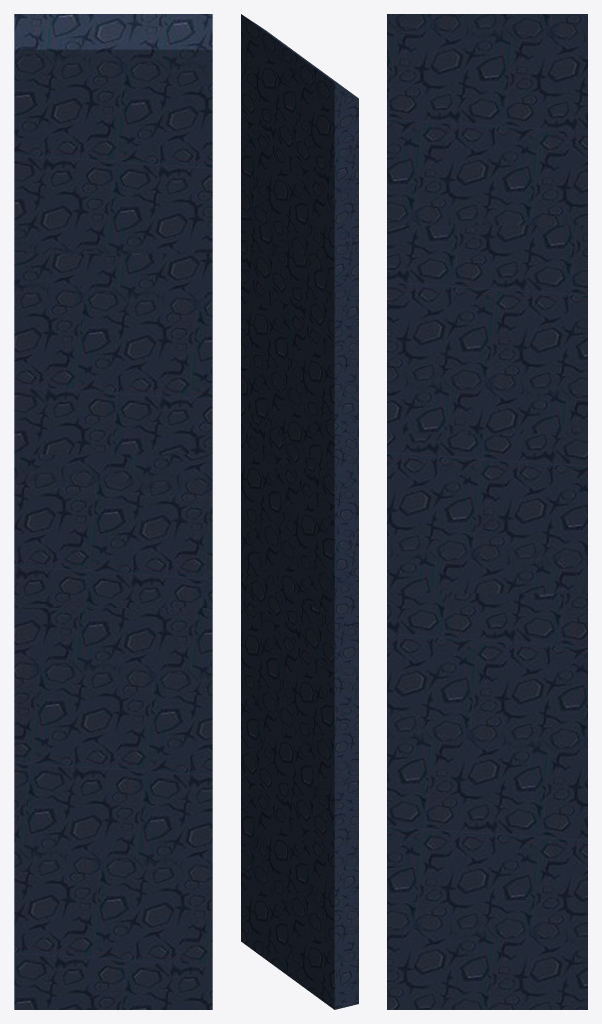
Rendered from paredIzq.fbx.
3 views of the same model, side by side, from view 1: azimuth 90°, elevation 25°; view 2: azimuth 210°, elevation 25°; view 3: azimuth 270°, elevation 25° (orthographic). The views are drawn at different scales.
Visible parts, largest first — view 1: pared1; view 2: pared1; view 3: pared1.
Part boxes in pixels (x1,y1,x2,y2): pared1: (14, 14, 212, 1009); pared1: (241, 14, 358, 1009); pared1: (387, 14, 587, 1009).
Bounding box in the file's own units: 3.45 × 126 × 23.
1 material, 1 textured.
